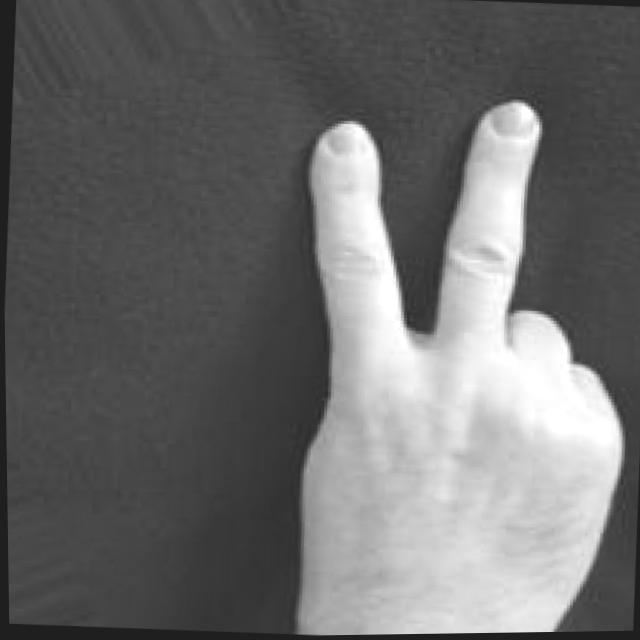V: (277, 78, 640, 636)
